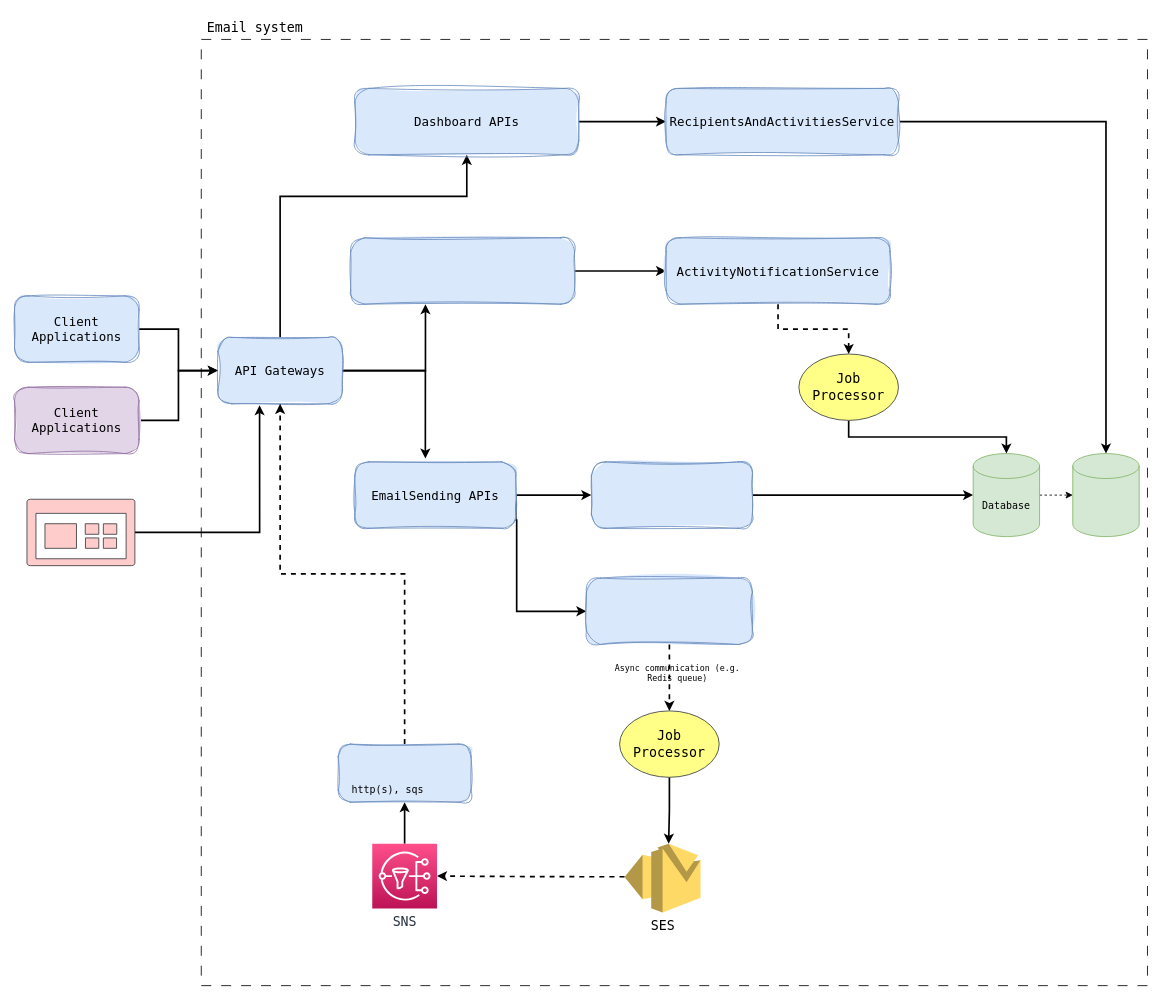
The diagram is 1162 pixels wide and 1000 high, and some of its shapes have lost their labels. Here are the shapes that lost their labels. From the top down, the box of each, then its label:
(350, 237, 575, 304): Activity APIs
(591, 461, 752, 528): RecipientService
(1072, 453, 1139, 537): Replicas
(26, 498, 135, 566): EmailDashboard
(586, 577, 752, 644): EmailsService
(337, 743, 471, 802): SNS Subscribers
